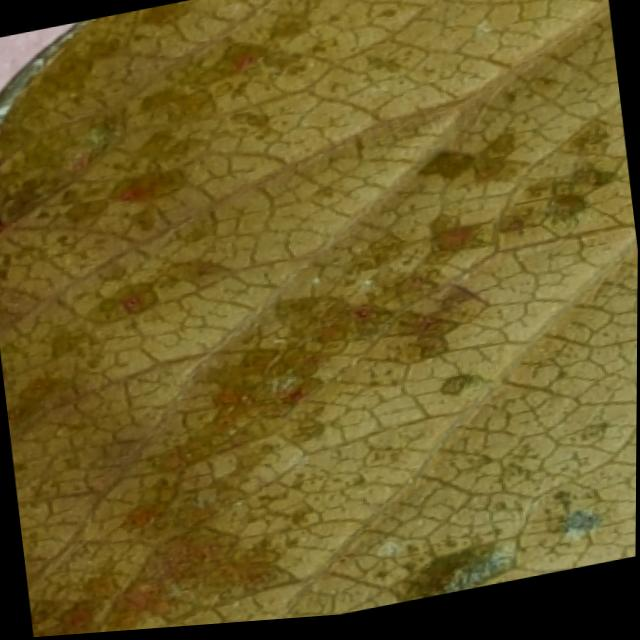Angular Leafspot: (0, 0, 637, 638)
